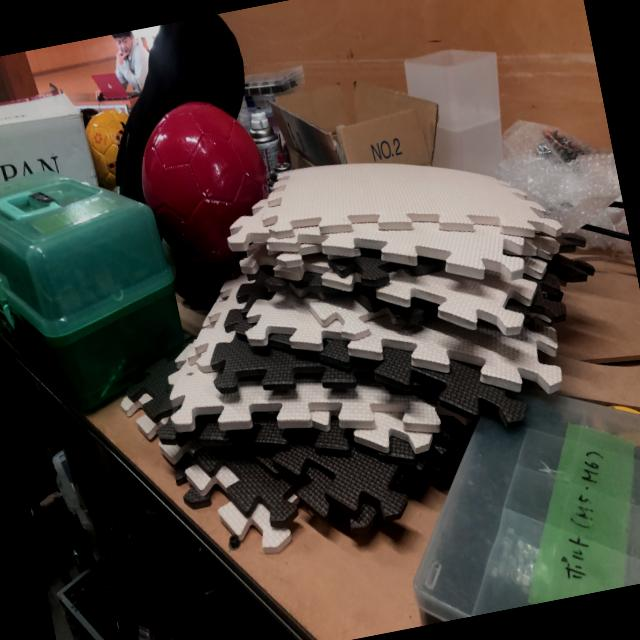red_ball: (128, 92, 284, 280)
